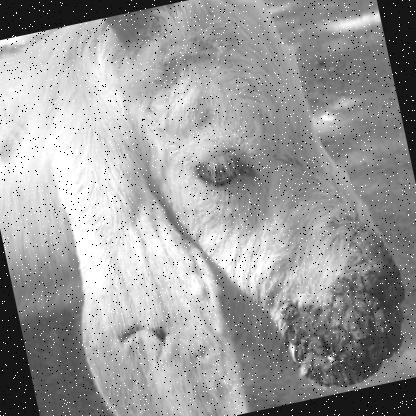ppr: (271, 278, 399, 391)
